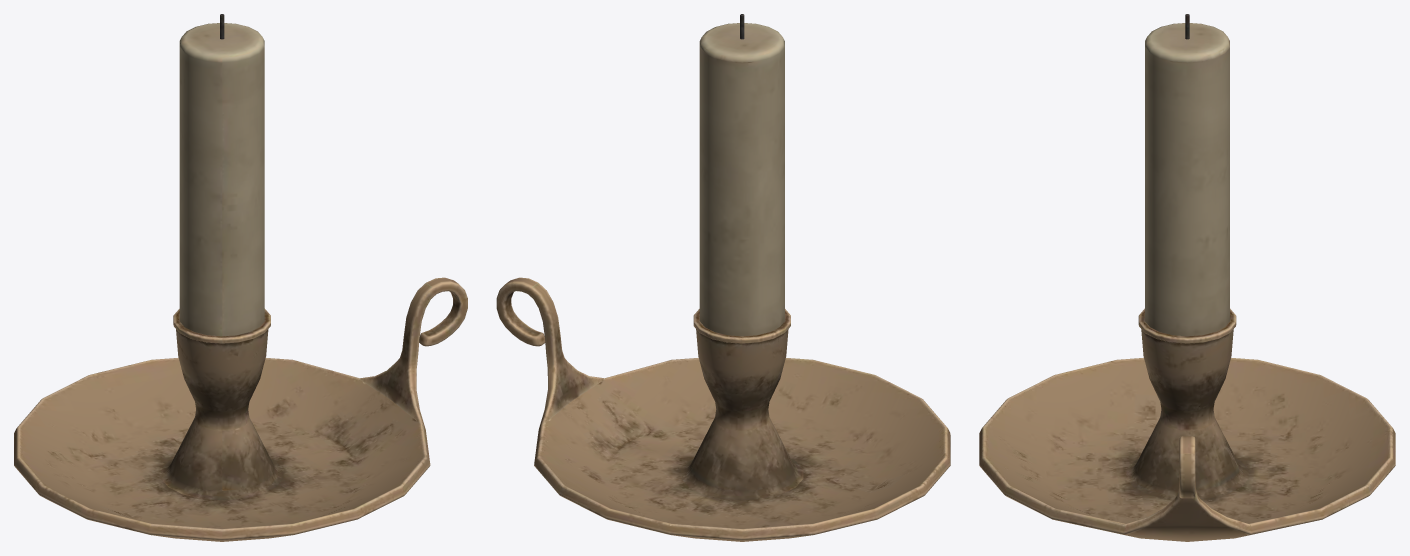
Rendered from castical.glb.
The picture shows the model from 3 angles, left to right: view 1: azimuth 30°, elevation 25°; view 2: azimuth 150°, elevation 25°; view 3: azimuth 270°, elevation 25°; orthographic projection.
Parts seen in each view (by area): view 1: pCylinder4; view 2: pCylinder4; view 3: pCylinder4.
Part boxes in pixels (left/top/right/bottom): pCylinder4: left=14, top=14, right=467, bottom=541; pCylinder4: left=496, top=14, right=950, bottom=541; pCylinder4: left=979, top=14, right=1395, bottom=541.
Bounding box in the file's own units: 19.76 × 20.78 × 16.73.
1 material, 1 textured.
